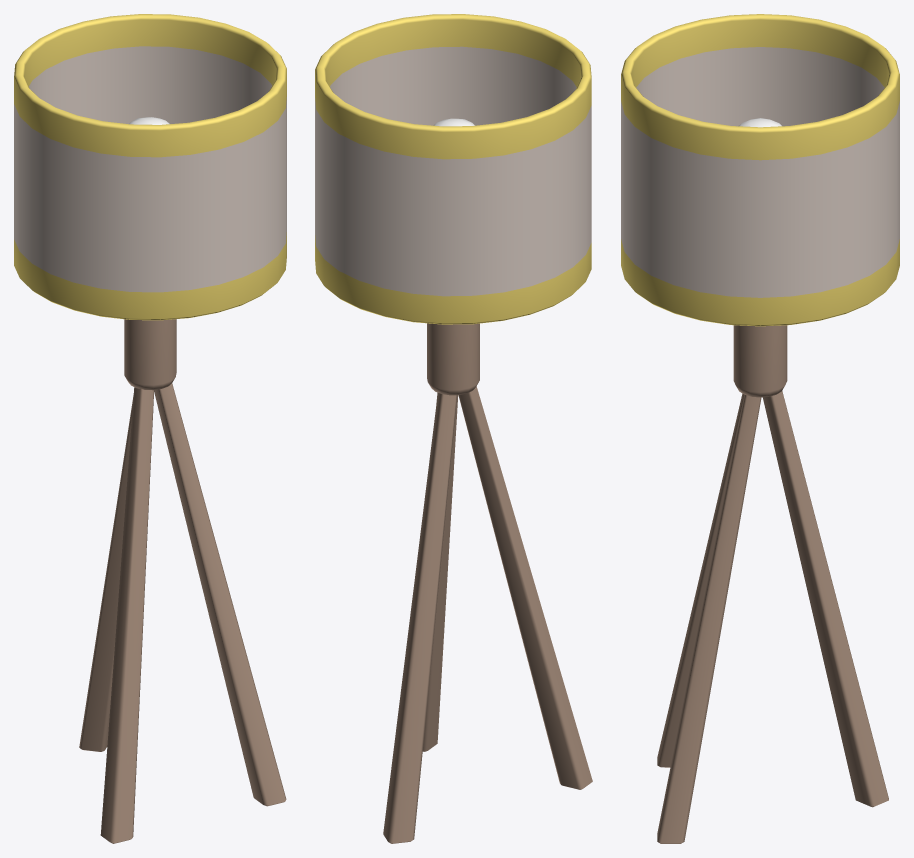
The model's file is Lamp_2.glb.
The picture shows the model from 3 angles, left to right: view 1: azimuth 30°, elevation 25°; view 2: azimuth 150°, elevation 25°; view 3: azimuth 270°, elevation 25°; orthographic projection.
Parts seen in each view (by area): view 1: Lamp_10; view 2: Lamp_10; view 3: Lamp_10.
Boxes of the visible parts, x1=… form: Lamp_10: x1=14, y1=14, x2=286, y2=843; Lamp_10: x1=315, y1=14, x2=592, y2=843; Lamp_10: x1=621, y1=14, x2=899, y2=843.
Bounding box in the file's own units: 0.5597 × 1.62 × 0.5597.
2 materials, 1 textured.
